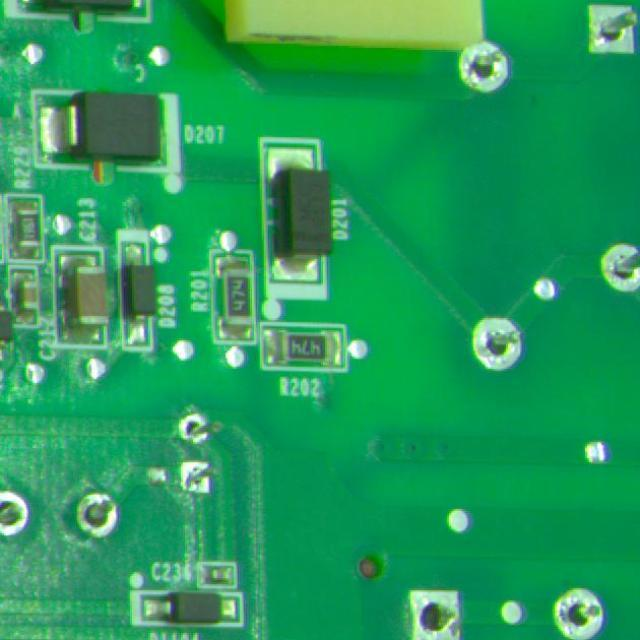Insufficient solder: (448, 24, 515, 102), (468, 305, 536, 375), (396, 577, 468, 640), (544, 579, 612, 640), (63, 486, 137, 540), (582, 0, 640, 59), (589, 230, 640, 296), (168, 397, 222, 450), (178, 452, 222, 503), (0, 486, 38, 534)
